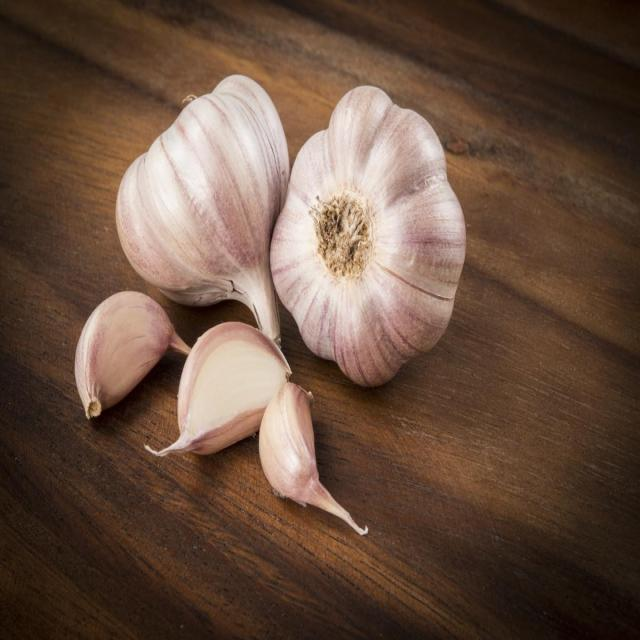garlic: (270, 86, 465, 385), (115, 74, 289, 343), (145, 322, 290, 455), (259, 382, 367, 534), (74, 290, 190, 418)
